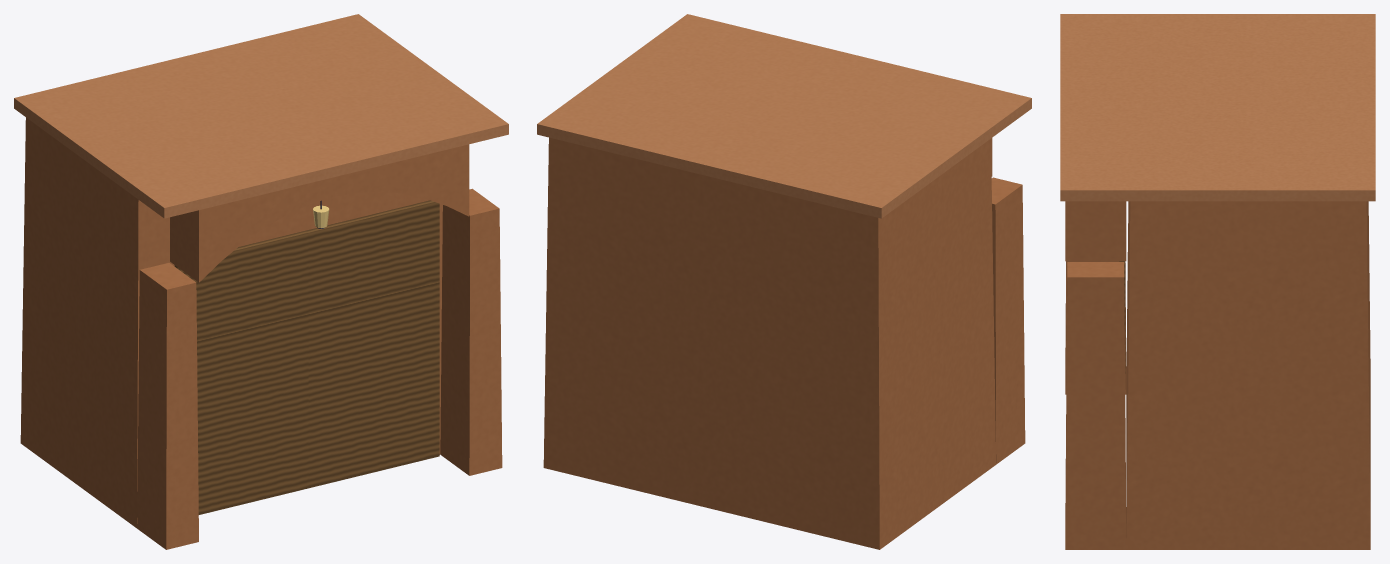
File: SM_Souq_Stall_W4D30H38.fbx
3 views of the same model, side by side, from view 1: azimuth 30°, elevation 25°; view 2: azimuth 150°, elevation 25°; view 3: azimuth 270°, elevation 25° (orthographic). The views are drawn at different scales.
Parts seen in each view (by area): view 1: SM_Souq_Stall_W4D30H38; view 2: SM_Souq_Stall_W4D30H38; view 3: SM_Souq_Stall_W4D30H38.
Part boxes in pixels (x1,y1,x2,y2): SM_Souq_Stall_W4D30H38: (14,14,508,549); SM_Souq_Stall_W4D30H38: (537,14,1031,549); SM_Souq_Stall_W4D30H38: (1060,14,1375,549).
Size of the model in its own units: 4.1 by 3.92 by 3.1.
